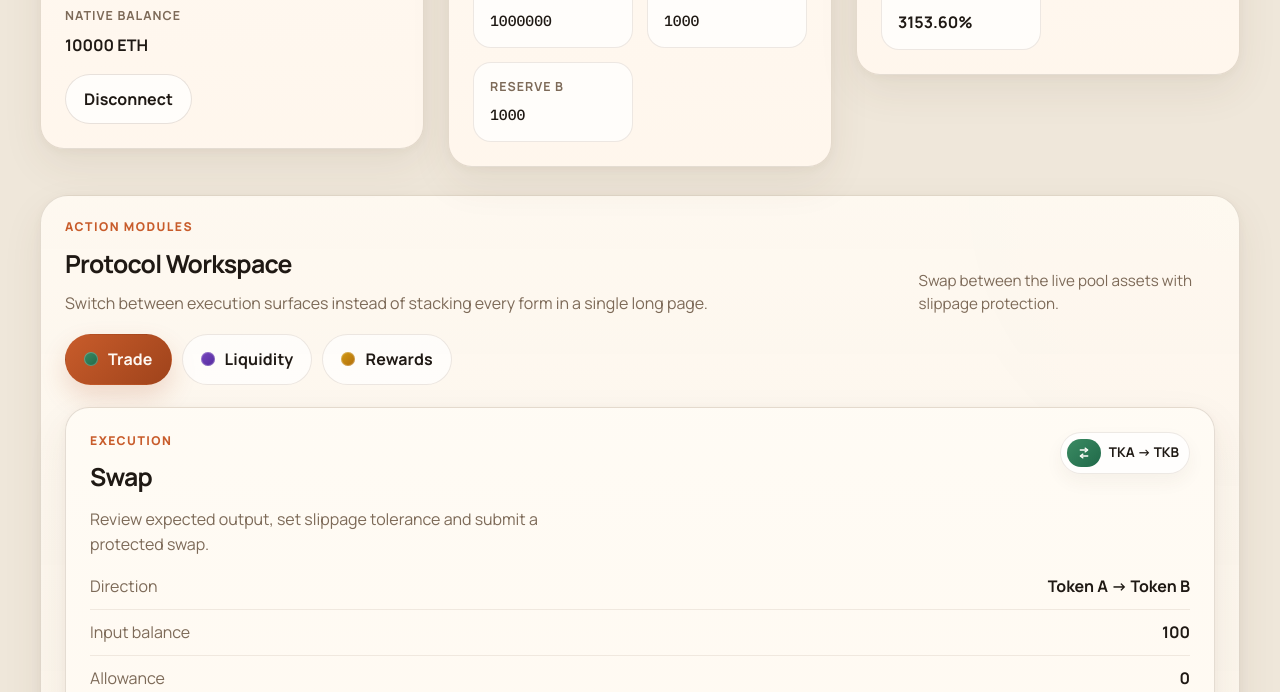
App shell states › renders dashboard modules when connected to the correct network
(page scrolled)
Expected: the tab "Trade" is shown, x1=65 y1=334 x2=172 y2=384
Expected: the tab "Rewards" is shown, x1=322 y1=334 x2=452 y2=384
Click the tab "Liquidity": (247, 359) x1=182 y1=334 x2=312 y2=384
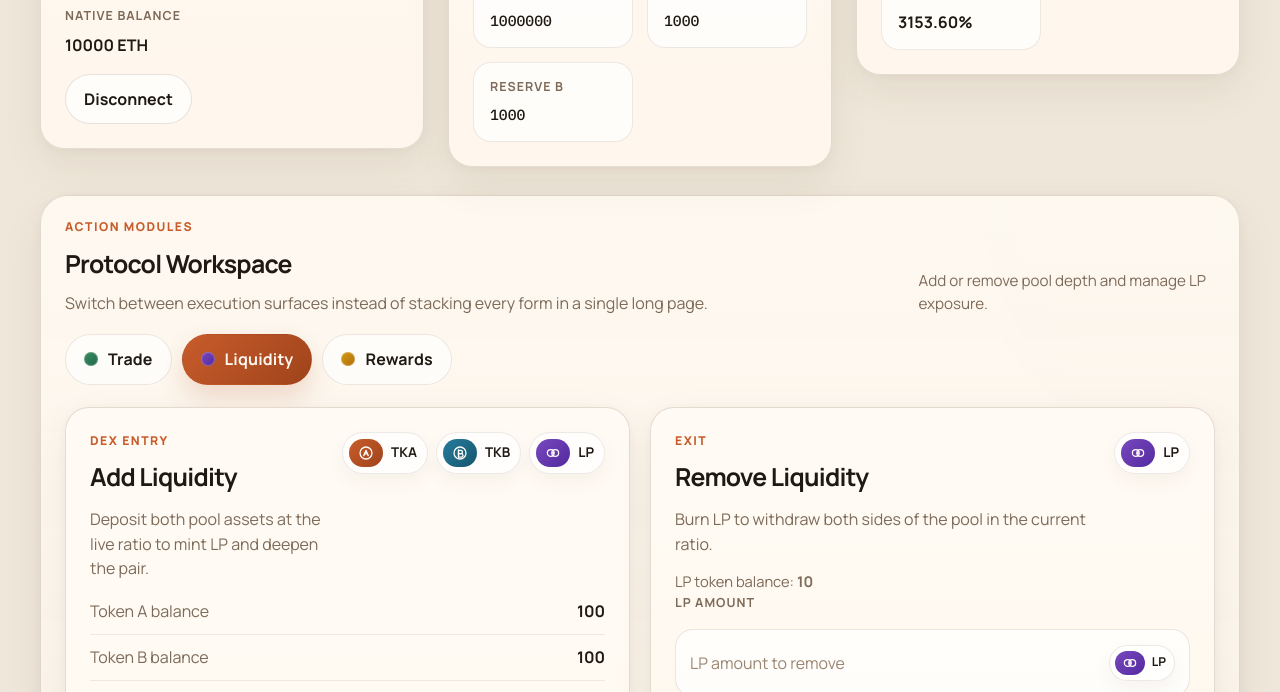
Result: the heading "Add Liquidity" is shown at x1=90 y1=460 x2=237 y2=493
Result: the heading "Remove Liquidity" is shown at x1=675 y1=460 x2=868 y2=493
Click the tab "Rewards": (387, 359) x1=322 y1=334 x2=452 y2=384
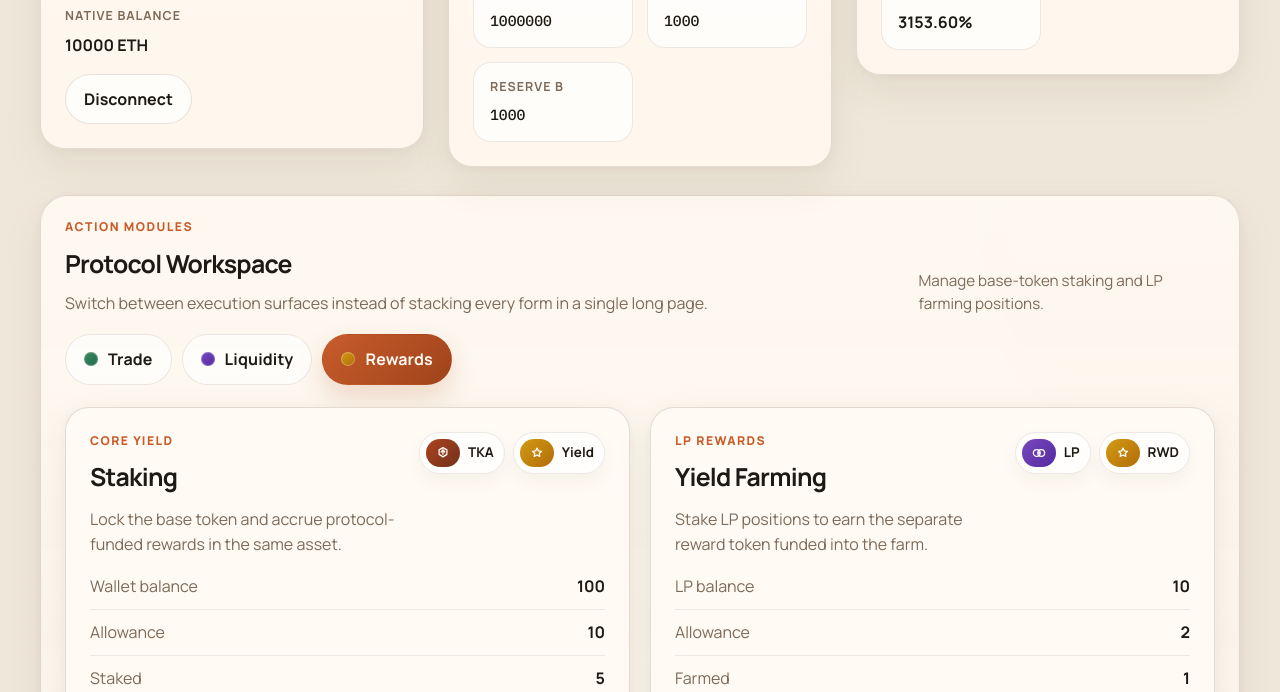
Result: the heading "Staking" is shown at x1=90 y1=460 x2=177 y2=493
Result: the heading "Yield Farming" is shown at x1=675 y1=460 x2=826 y2=493
